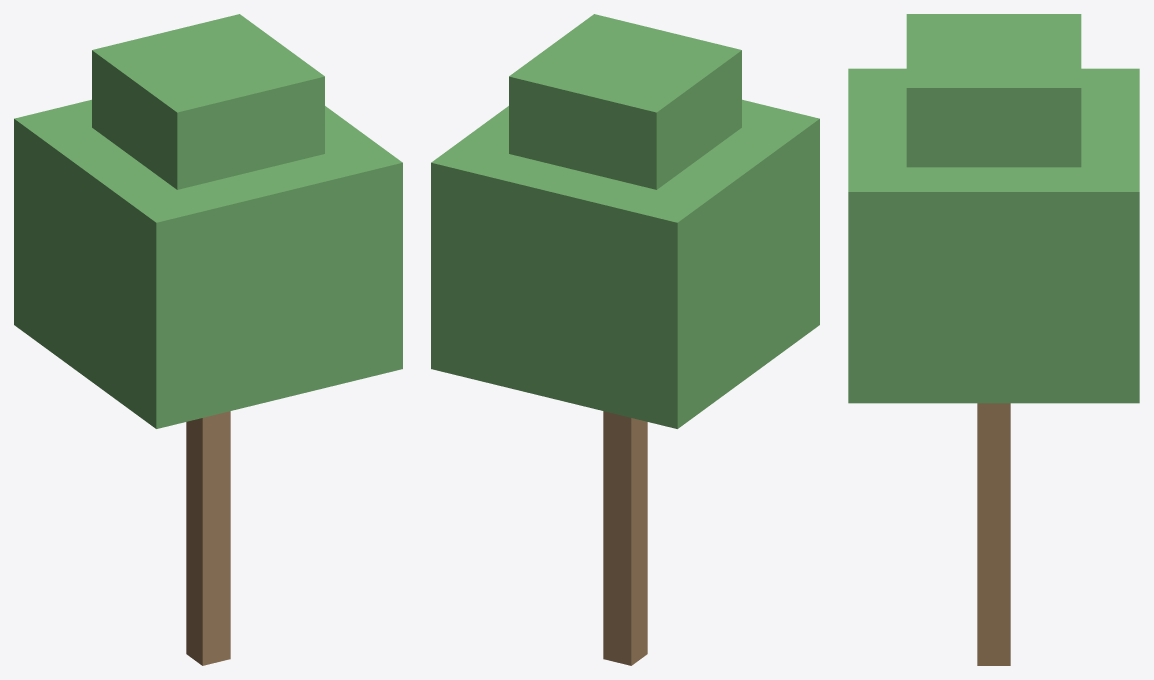
File: Prop_DS_Tree_13.glb
The picture shows the model from 3 angles, left to right: view 1: azimuth 30°, elevation 25°; view 2: azimuth 150°, elevation 25°; view 3: azimuth 270°, elevation 25°; orthographic projection. The views are drawn at different scales.
Parts seen in each view (by area): view 1: Cube.001, Cube.002, Cube; view 2: Cube.001, Cube.002, Cube; view 3: Cube.001, Cube.002, Cube.
Boxes of the visible parts, box(x1,y1,x2,y2) form: Cube.001: box(14, 99, 402, 428); Cube.002: box(92, 14, 324, 189); Cube: box(186, 411, 230, 665); Cube.001: box(431, 99, 819, 428); Cube.002: box(509, 14, 741, 189); Cube: box(603, 411, 647, 665); Cube.001: box(848, 68, 1139, 403); Cube.002: box(906, 14, 1081, 167); Cube: box(977, 403, 1010, 665).
Size of the model in its own units: 2.62 by 6.04 by 2.62.
